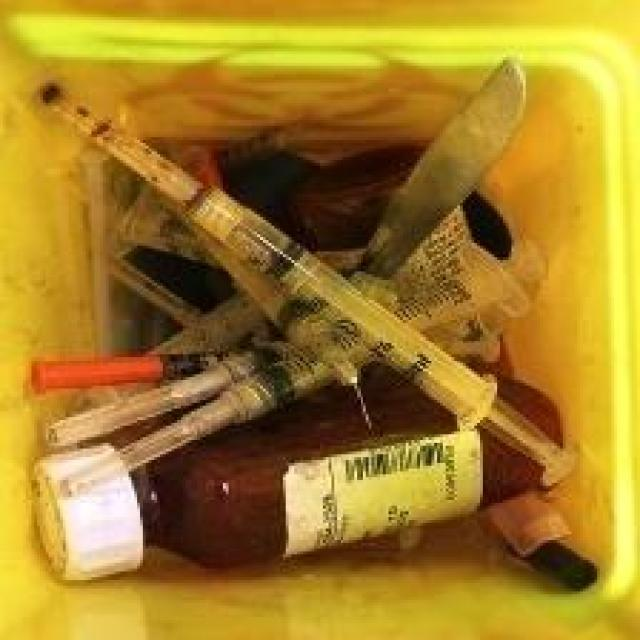syringe: (32, 79, 577, 578)
